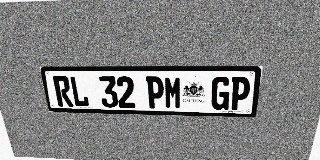2: (116, 76, 135, 108)
3: (98, 76, 118, 108)
G: (210, 76, 231, 110)
L: (69, 76, 90, 107)
M: (164, 76, 182, 109)
P: (229, 77, 251, 110), (146, 76, 164, 109)
R: (52, 76, 74, 107)
